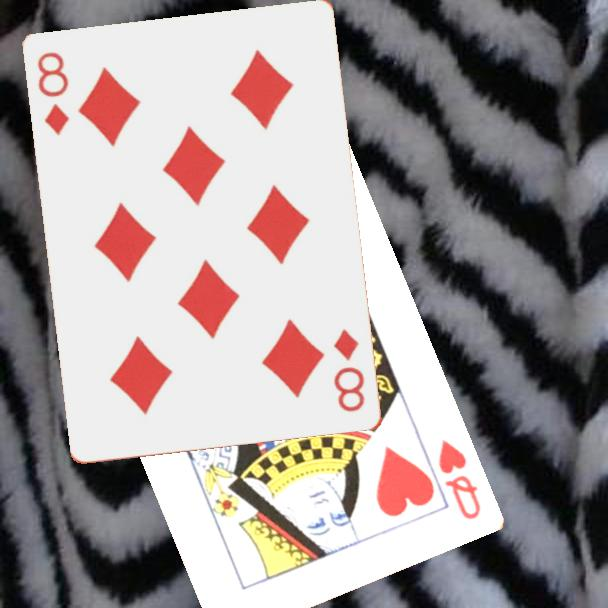d08: (34, 49, 73, 139), (330, 325, 368, 416)
h12: (434, 435, 483, 523)
